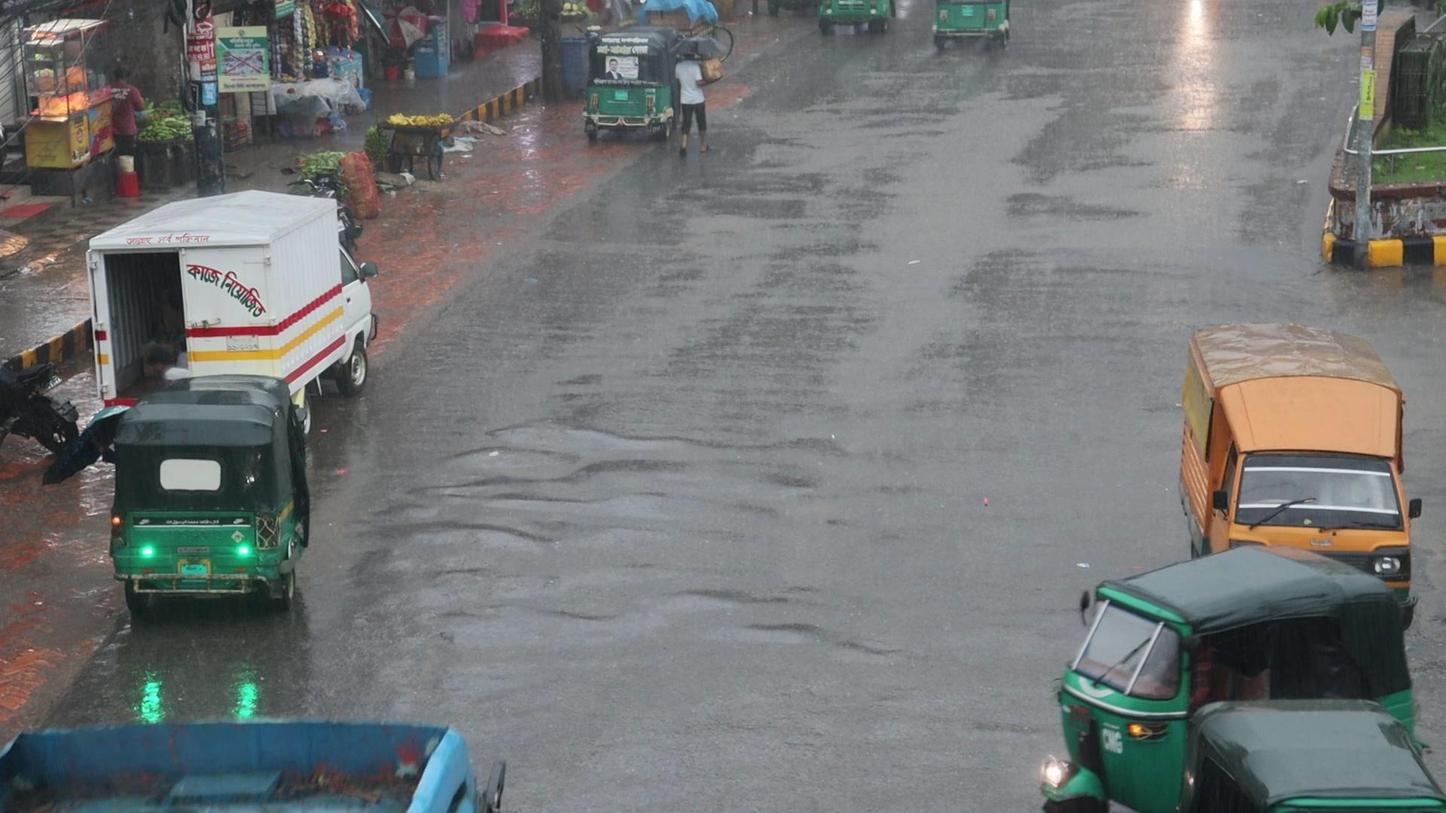Truck: (1179, 320, 1416, 644)
